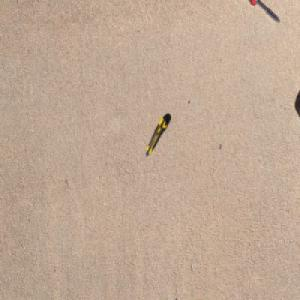Cutter: (145, 114, 169, 157)
